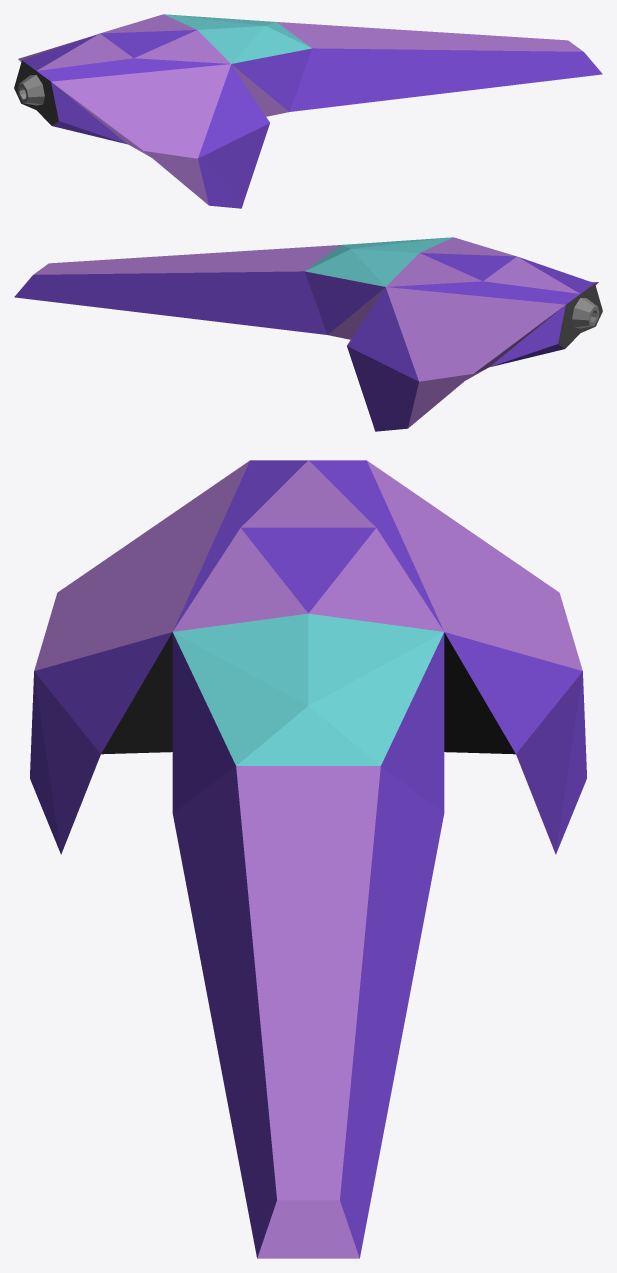
The model's file is ship4.fbx.
3 views of the same model, one above another, from view 1: azimuth 30°, elevation 25°; view 2: azimuth 150°, elevation 25°; view 3: azimuth 270°, elevation 25° (orthographic). The views are drawn at different scales.
Parts seen in each view (by area): view 1: Cube; view 2: Cube; view 3: Cube.
Part boxes in pixels (x1=…): Cube: x1=14, y1=14, x2=602, y2=208; Cube: x1=14, y1=237, x2=602, y2=431; Cube: x1=30, y1=460, x2=586, y2=1258.
Bounding box in the file's own units: 745 × 169 × 317.
